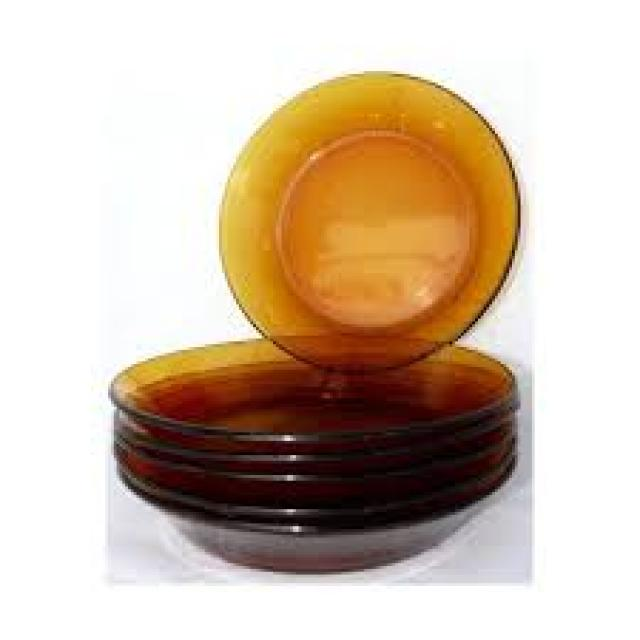glass: (216, 71, 518, 373), (108, 410, 512, 572), (108, 333, 512, 444)
